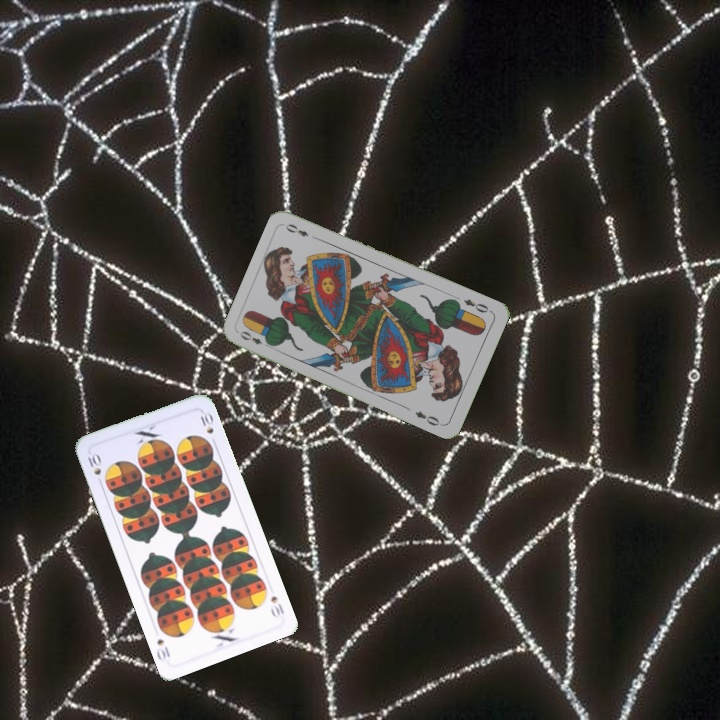EO: (236, 327, 274, 351), (459, 295, 494, 315)
S10: (83, 449, 105, 488), (266, 591, 287, 621)
